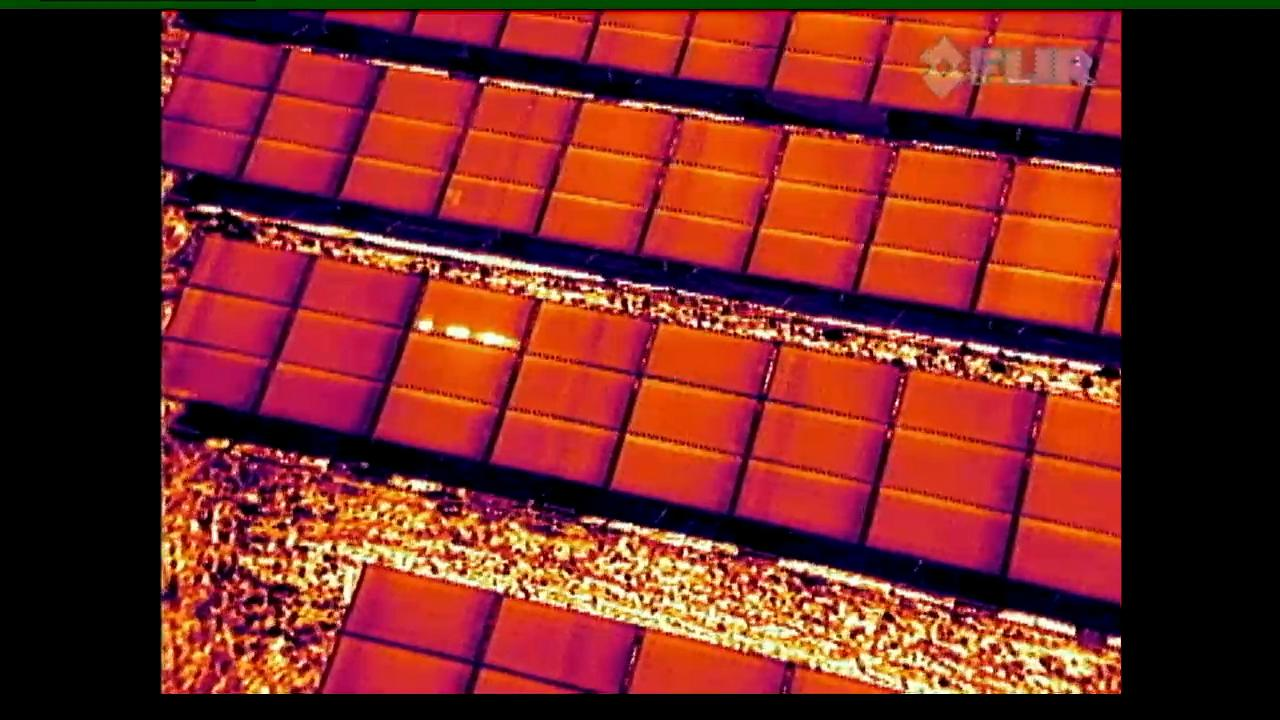hotspot: (364, 275, 541, 461)
